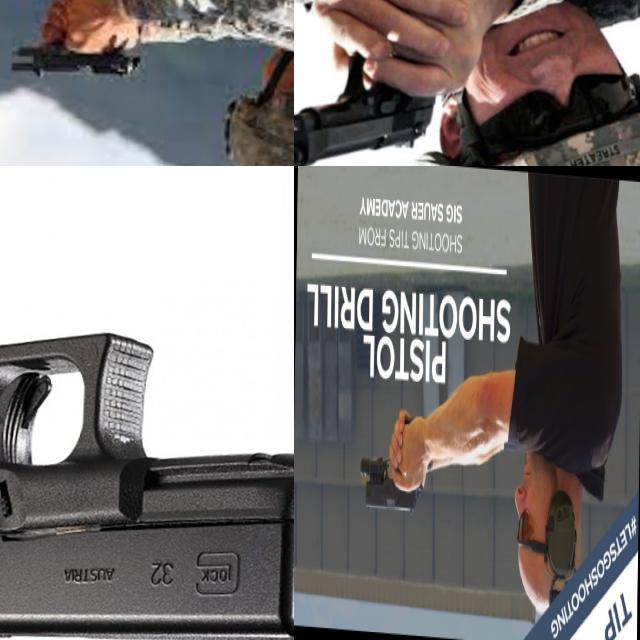handgun: (0, 166, 294, 640), (294, 15, 441, 166), (4, 7, 146, 82), (358, 407, 426, 515)
